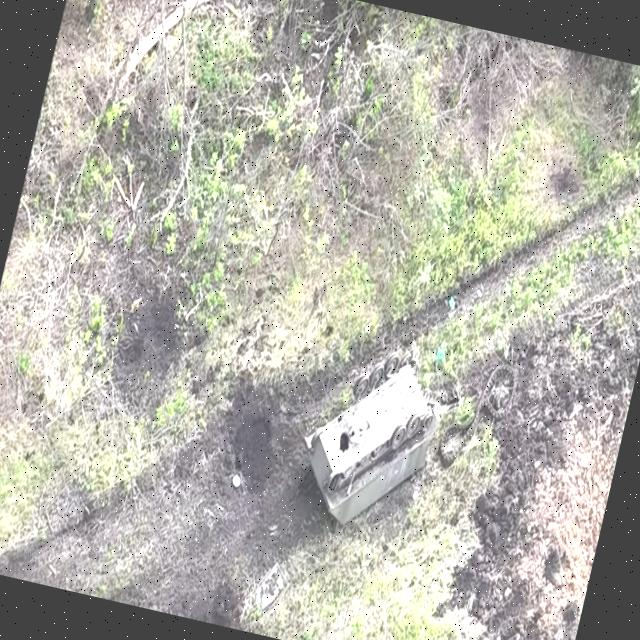APC: (287, 329, 454, 546)
